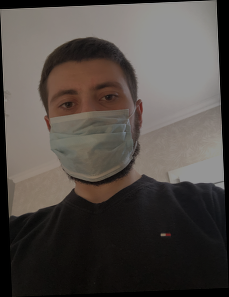with_mask: (48, 77, 140, 188)
